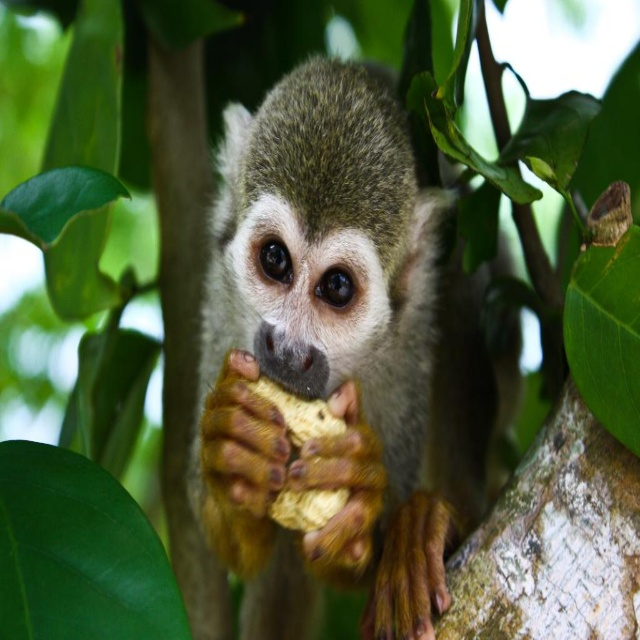Monkey: (181, 47, 499, 640)
